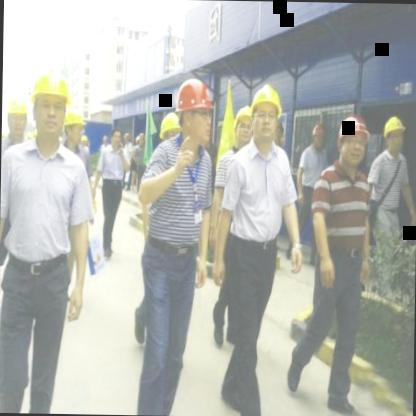head: (107, 128, 124, 149)
helmet: (174, 75, 214, 145), (30, 68, 66, 140), (249, 83, 281, 146), (336, 114, 371, 171), (158, 112, 188, 160), (5, 92, 30, 144), (380, 115, 408, 158), (62, 107, 86, 150), (232, 102, 254, 148), (310, 121, 328, 152)
